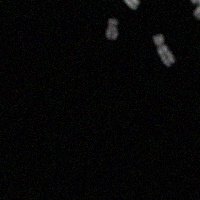chromosome: (153, 32, 175, 67), (104, 18, 120, 41), (102, 0, 140, 9), (193, 0, 200, 18), (175, 0, 200, 3), (199, 39, 200, 82)
